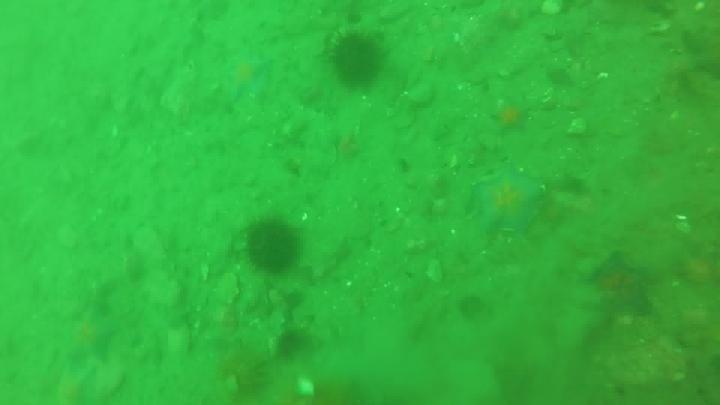echinus: (326, 29, 387, 90), (241, 217, 302, 276), (273, 326, 313, 361), (455, 292, 489, 322)
starfish: (469, 168, 545, 239), (584, 250, 659, 320), (61, 306, 120, 367), (220, 50, 274, 104), (679, 25, 720, 81), (49, 363, 101, 405), (488, 96, 533, 136)
